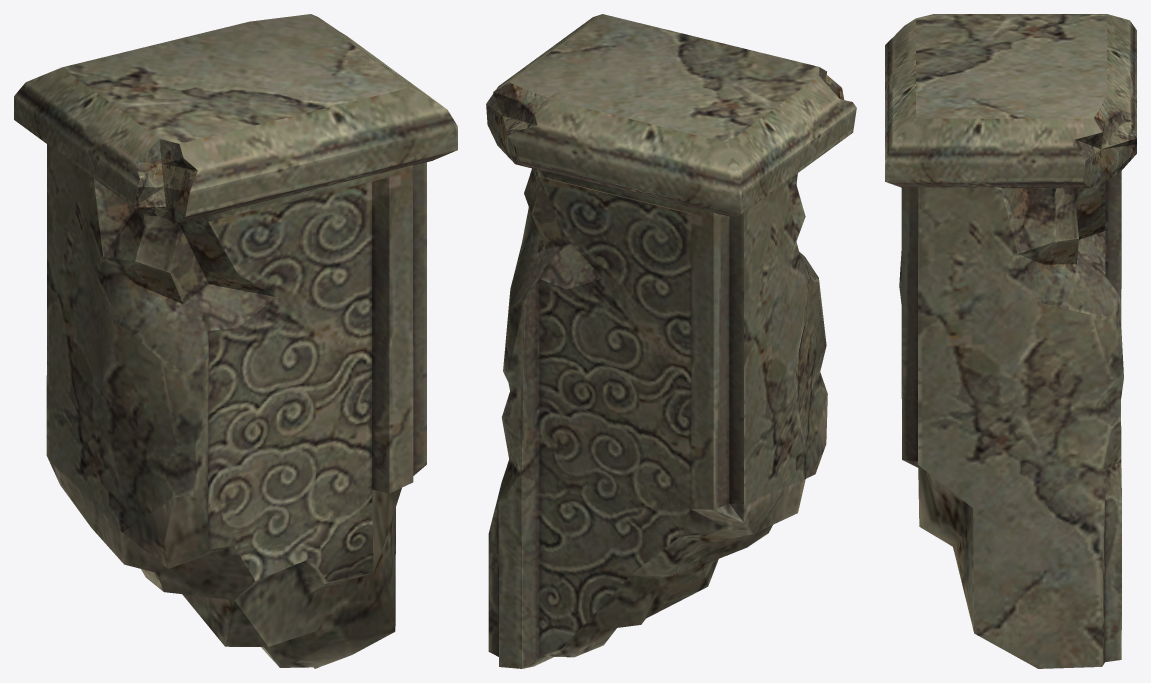
File: Scene_Build_TaZiShaMo_PoSunShiZhu_4.FBX
3 views of the same model, side by side, from view 1: azimuth 30°, elevation 25°; view 2: azimuth 150°, elevation 25°; view 3: azimuth 270°, elevation 25° (orthographic). The views are drawn at different scales.
Parts seen in each view (by area): view 1: Scene_Build_TaZiShaMo_PoSunShiZhu_4; view 2: Scene_Build_TaZiShaMo_PoSunShiZhu_4; view 3: Scene_Build_TaZiShaMo_PoSunShiZhu_4.
Part boxes in pixels (left/top/right/bottom): Scene_Build_TaZiShaMo_PoSunShiZhu_4: left=14, top=14, right=457, bottom=668; Scene_Build_TaZiShaMo_PoSunShiZhu_4: left=486, top=14, right=856, bottom=668; Scene_Build_TaZiShaMo_PoSunShiZhu_4: left=885, top=14, right=1136, bottom=668.
Size of the model in its own units: 245 by 486 by 199.
